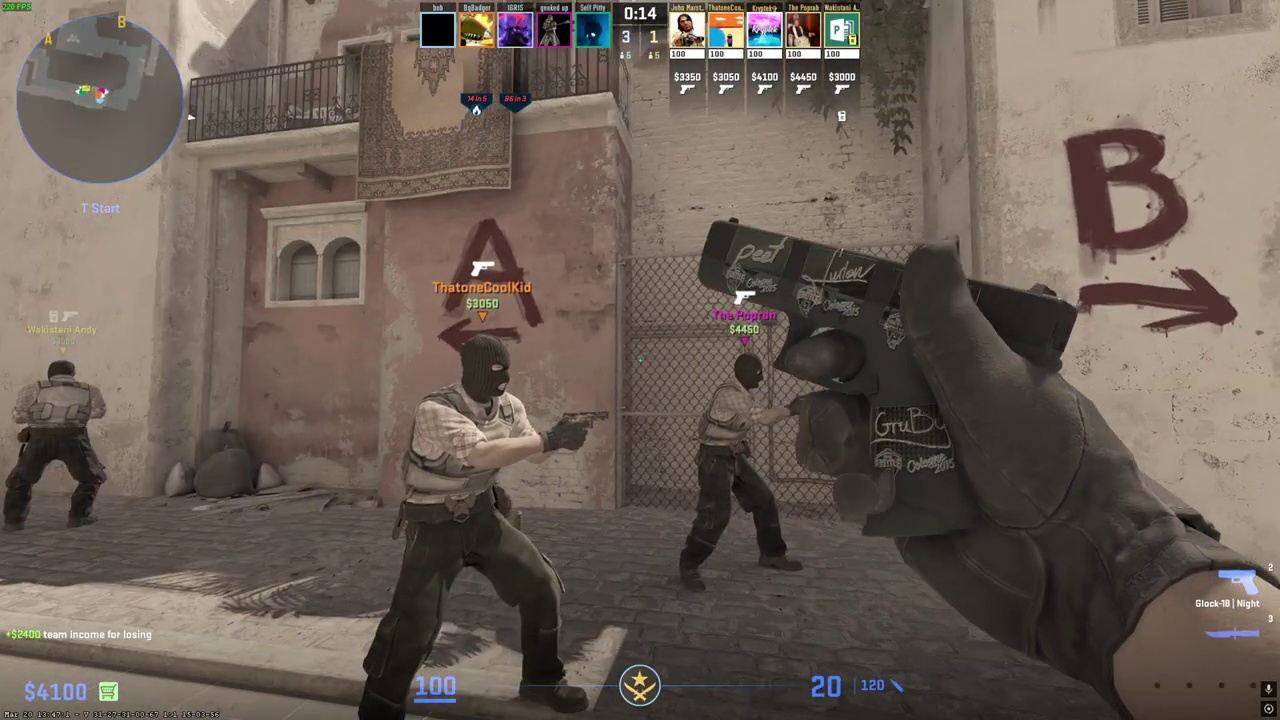Terrorist: (371, 334, 577, 719), (679, 353, 797, 592), (2, 360, 108, 532)
